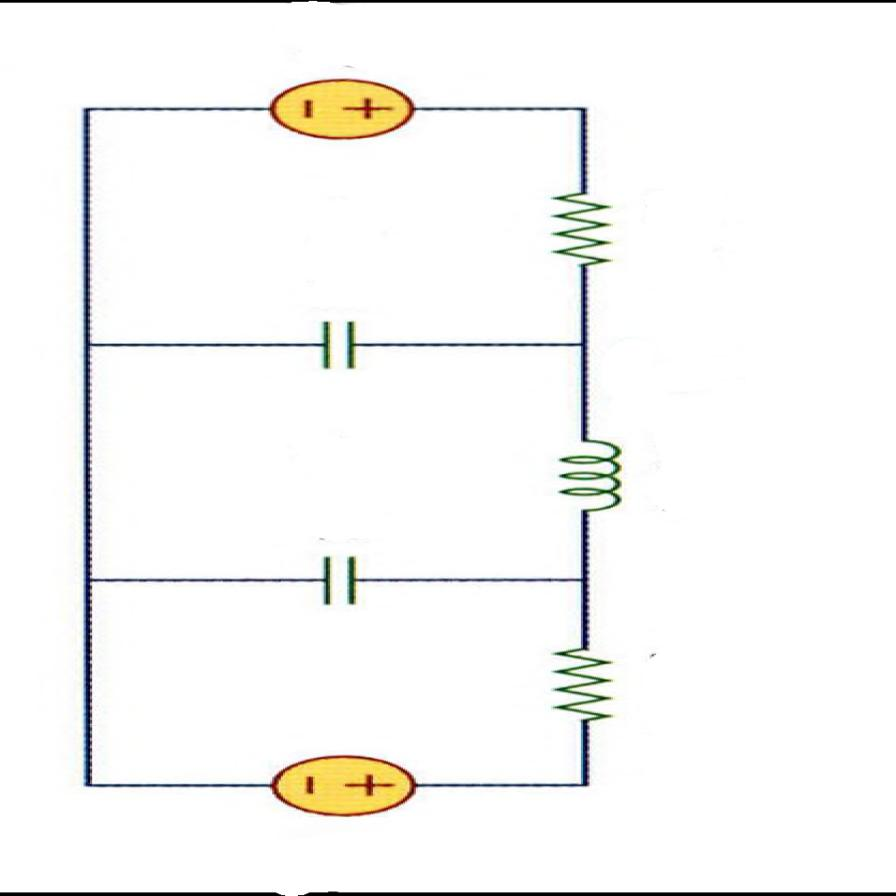L2: (533, 415, 639, 534)
R2: (526, 172, 642, 286)
V2: (260, 748, 429, 819), (260, 77, 425, 144)
